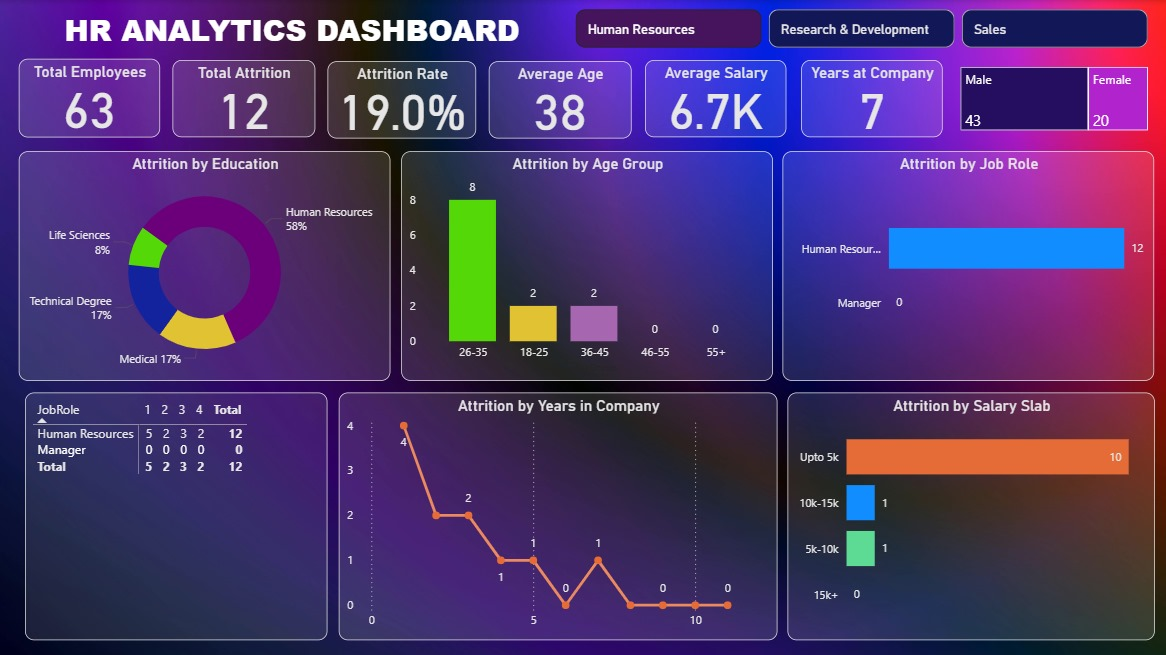

Layout of this report page (visuals, bound fields, positions):
{"tool":"powerbi","page":{"name":"Dashboard","canvas":[1280,720],"ordinal":0},"visuals":[{"type":"card","title":"Total Employees","fields":{"Values":["CountNonNull(HR_Analytics.EmpID)"]},"box":[20.6,64.5,155.1,86.4],"z":0},{"type":"card","title":"Total Attrition","fields":{"Values":["Sum(HR_Analytics.Atrition Count)"]},"box":[189.4,65.9,156.4,85.1],"z":1000},{"type":"card","title":"Attrition Rate","fields":{"Values":["HR_Analytics.Attrition Rate"]},"box":[359.5,67.2,163.3,85.1],"z":2000},{"type":"card","title":"Average Age","fields":{"Values":["HR_Analytics.Average Age"]},"box":[536.5,67.2,156.4,85.1],"z":3000},{"type":"card","title":"Years at Company","fields":{"Values":["Avg(HR_Analytics.YearsAtCompany)"]},"box":[879.6,65.9,155.1,85.1],"z":4000},{"type":"card","title":"Average Salary","fields":{"Values":["Avg(HR_Analytics.MonthlyIncome)"]},"box":[708.1,65.9,155.1,85.1],"z":5000},{"type":"donutChart","title":"Attrition by Education","fields":{"Category":["HR_Analytics.EducationField"],"Y":["Sum(HR_Analytics.Atrition Count)"]},"box":[20.2,165.5,408.3,252.4],"z":6000},{"type":"columnChart","title":"Attrition by Age Group","fields":{"Category":["HR_Analytics.AgeGroup"],"Y":["Sum(HR_Analytics.Atrition Count)"]},"box":[440.5,165.5,408.3,252.4],"z":7000},{"type":"pivotTable","fields":{"Rows":["HR_Analytics.JobRole"],"Columns":["HR_Analytics.JobSatisfaction"],"Values":["Sum(HR_Analytics.Atrition Count)"]},"box":[27.4,430.9,332.1,271.7],"z":8000},{"type":"treemap","title":"Attrition by Gender","fields":{"Group":["HR_Analytics.Gender"],"Values":["CountNonNull(HR_Analytics.Gender)"]},"box":[1049.7,72.7,215.4,75.5],"z":9000},{"type":"clusteredBarChart","title":"Attrition by Job Role","fields":{"Category":["HR_Analytics.JobRole"],"Y":["Sum(HR_Analytics.Atrition Count)"]},"box":[859.5,165.5,408.3,252.4],"z":10000},{"type":"lineChart","title":"Attrition by Years in Company","fields":{"Y":["Sum(HR_Analytics.Atrition Count)"],"Category":["HR_Analytics.YearsAtCompany"]},"box":[371.9,430.9,481.6,271.7],"z":11000},{"type":"clusteredBarChart","title":"Attrition by Salary Slab","fields":{"Y":["Sum(HR_Analytics.Atrition Count)"],"Category":["HR_Analytics.SalarySlab"]},"box":[864.5,430.9,403.4,271.7],"z":12000},{"type":"advancedSlicerVisual","fields":{"Values":["HR_Analytics.Department"]},"box":[627.1,5.5,640.8,52.1],"z":13000},{"type":"textbox","box":[65.9,5.5,516,57.6],"z":14000}]}

Visuals, with their boxes in screenshot pixels (x1, y1, x2, y2), scaled from the page's 1280x720 canvas onto the 1166x655 screenshot:
"Total Employees" card: bbox=[19, 59, 160, 137]
"Total Attrition" card: bbox=[173, 60, 315, 137]
"Attrition Rate" card: bbox=[327, 61, 476, 139]
"Average Age" card: bbox=[489, 61, 631, 139]
"Years at Company" card: bbox=[801, 60, 943, 137]
"Average Salary" card: bbox=[645, 60, 786, 137]
"Attrition by Education" donutChart: bbox=[18, 151, 390, 380]
"Attrition by Age Group" columnChart: bbox=[401, 151, 773, 380]
pivotTable - HR_Analytics.JobRole x HR_Analytics.JobSatisfaction: bbox=[25, 392, 327, 639]
"Attrition by Gender" treemap: bbox=[956, 66, 1152, 135]
"Attrition by Job Role" clusteredBarChart: bbox=[783, 151, 1155, 380]
"Attrition by Years in Company" lineChart: bbox=[339, 392, 777, 639]
"Attrition by Salary Slab" clusteredBarChart: bbox=[788, 392, 1155, 639]
advancedSlicerVisual - HR_Analytics.Department: bbox=[571, 5, 1155, 52]
textbox: bbox=[60, 5, 530, 57]
